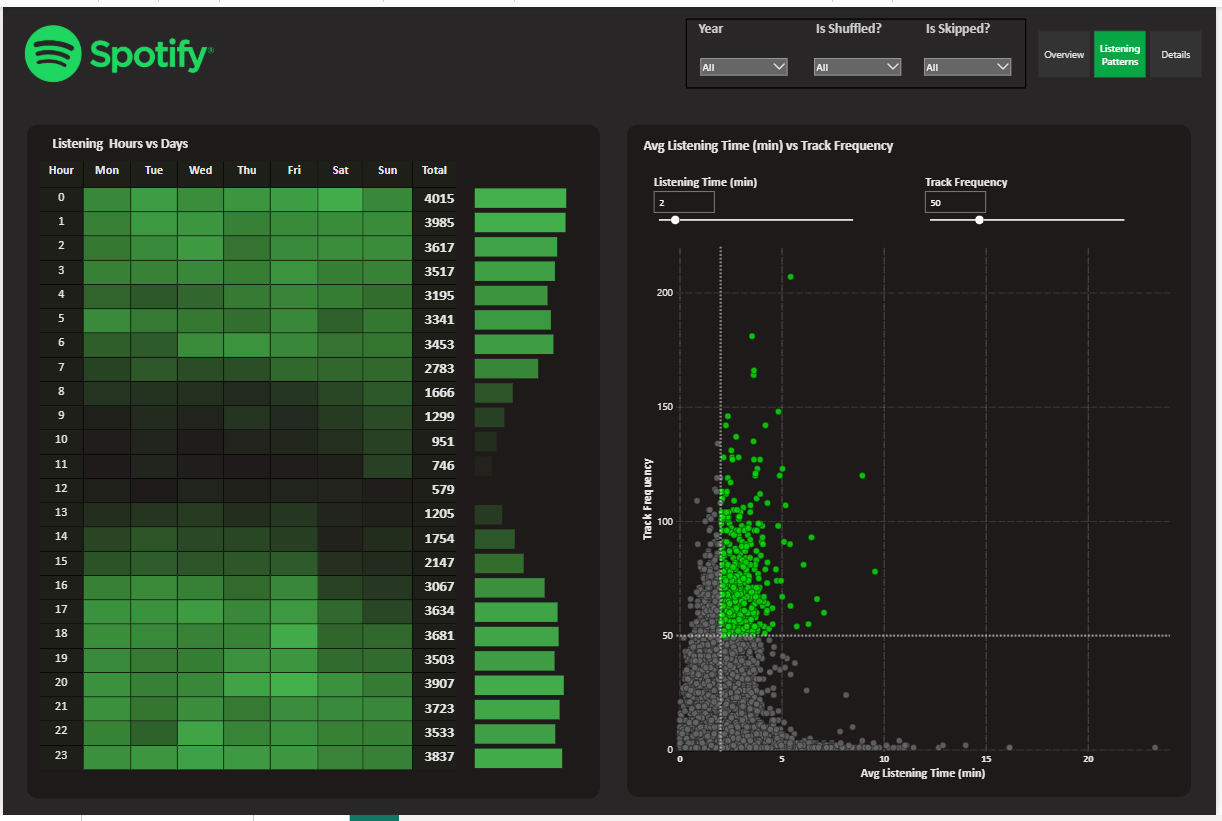

What the dashboard file says about the page in this screenshot:
{"tool":"powerbi","page":{"name":"Listening Patterns","canvas":[3300,2200],"ordinal":1},"visuals":[{"type":"shape","box":[1856,32,928,192],"z":0},{"type":"image","box":[32,32,575,200],"z":1000},{"type":"shape","box":[64,320,1560,1835],"z":2000},{"type":"textbox","box":[1888,32,96,64],"z":3000},{"type":"slicer","fields":{"Values":["spotify_history.shuffle"]},"box":[2197,128,256,75],"z":4000},{"type":"slicer","fields":{"Values":["spotify_history.skipped"]},"box":[2496,128,256,75],"z":5000},{"type":"textbox","box":[2208,32,224,64],"z":6000},{"type":"textbox","box":[2506,32,224,64],"z":7000},{"type":"pivotTable","fields":{"Rows":["spotify_history.Hour"],"Columns":["Date Table.Day Name"],"Values":["spotify_history.No of Tracks"]},"box":[96,416,1184,1728],"z":8000},{"type":"barChart","fields":{"Category":["spotify_history.Hour"],"Y":["spotify_history.No of Tracks"]},"box":[1280,480,320,1664],"z":9000},{"type":"textbox","box":[128,345,416,64],"z":10000},{"type":"shape","box":[1697,320,1536,1830],"z":11000},{"type":"scatterChart","fields":{"X":["spotify_history.Avg Listening Time (min)"],"Y":["spotify_history.Track Frequency"],"Category":["spotify_history.track_name"]},"box":[1728,640,1466,1470],"z":12000},{"type":"slicer","fields":{"Values":["Listening Time (min).Listening Time (min)"]},"box":[1760,448,576,256],"z":13000},{"type":"slicer","fields":{"Values":["Track Frequency (Paramater).Track Frequency (Paramater)"]},"box":[2496,448,576,256],"z":14000},{"type":"textbox","box":[1739,352,736,64],"z":15000},{"type":"slicer","fields":{"Values":["Date Table.Year"]},"box":[1888,128,256,75],"z":16000},{"type":"pageNavigator","box":[2816,64,448,128],"z":17000}]}

Visuals, with their boxes in screenshot pixels (x1, y1, x2, y2), scaled from the page's 3300x2200 canvas onto the 1222x821 screenshot:
shape: <bbox>687, 12, 1031, 84</bbox>
image: <bbox>12, 12, 225, 87</bbox>
shape: <bbox>24, 119, 601, 804</bbox>
textbox: <bbox>699, 12, 735, 36</bbox>
slicer - spotify_history.shuffle: <bbox>814, 48, 908, 76</bbox>
slicer - spotify_history.skipped: <bbox>924, 48, 1019, 76</bbox>
textbox: <bbox>818, 12, 901, 36</bbox>
textbox: <bbox>928, 12, 1011, 36</bbox>
pivotTable - spotify_history.Hour x Date Table.Day Name: <bbox>36, 155, 474, 800</bbox>
barChart - spotify_history.Hour x spotify_history.No of Tracks: <bbox>474, 179, 592, 800</bbox>
textbox: <bbox>47, 129, 201, 153</bbox>
shape: <bbox>628, 119, 1197, 802</bbox>
scatterChart - spotify_history.Avg Listening Time (min) x spotify_history.Track Frequency: <bbox>640, 239, 1183, 787</bbox>
slicer - Listening Time (min).Listening Time (min): <bbox>652, 167, 865, 263</bbox>
slicer - Track Frequency (Paramater).Track Frequency (Paramater): <bbox>924, 167, 1138, 263</bbox>
textbox: <bbox>644, 131, 916, 155</bbox>
slicer - Date Table.Year: <bbox>699, 48, 794, 76</bbox>
pageNavigator: <bbox>1043, 24, 1209, 72</bbox>
